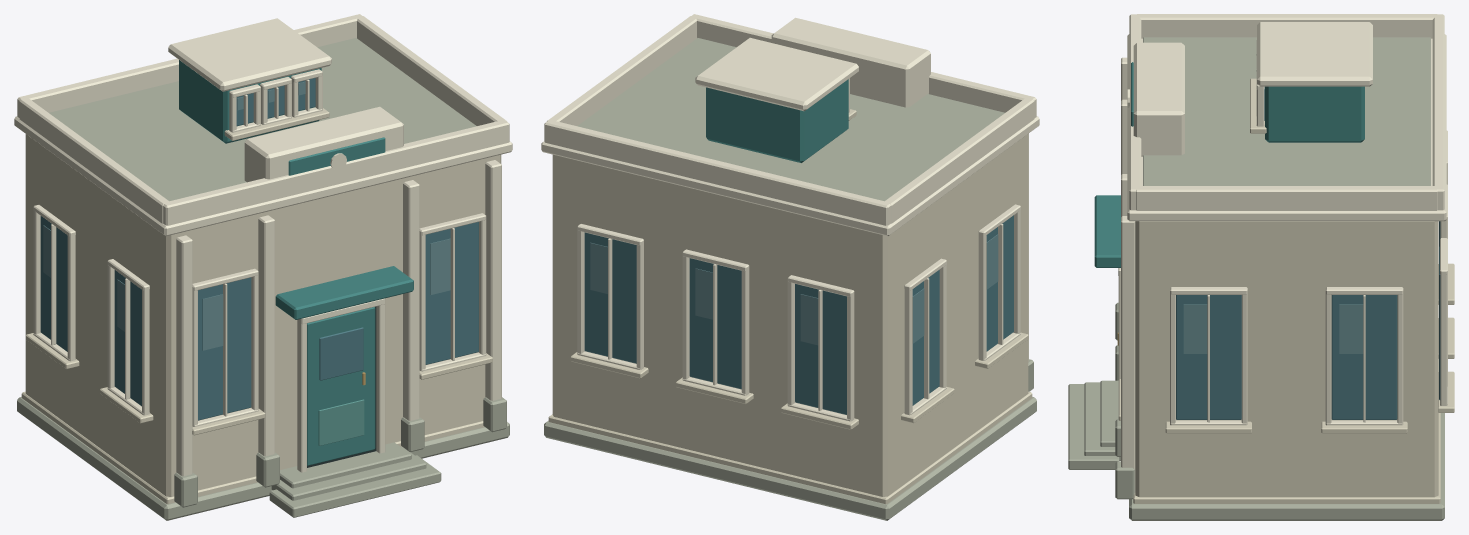
Rendered from building_civic_hall.glb.
3 views of the same model, side by side, from view 1: azimuth 30°, elevation 25°; view 2: azimuth 150°, elevation 25°; view 3: azimuth 270°, elevation 25° (orthographic). The views are drawn at different scales.
Visible parts, largest first — view 1: building_civic_hall; view 2: building_civic_hall; view 3: building_civic_hall.
Part boxes in pixels (<box>): building_civic_hall: <box>14,14,512,520</box>; building_civic_hall: <box>541,14,1039,520</box>; building_civic_hall: <box>1068,14,1454,520</box>.
Bounding box in the file's own units: 5.5 × 5.31 × 4.84.
